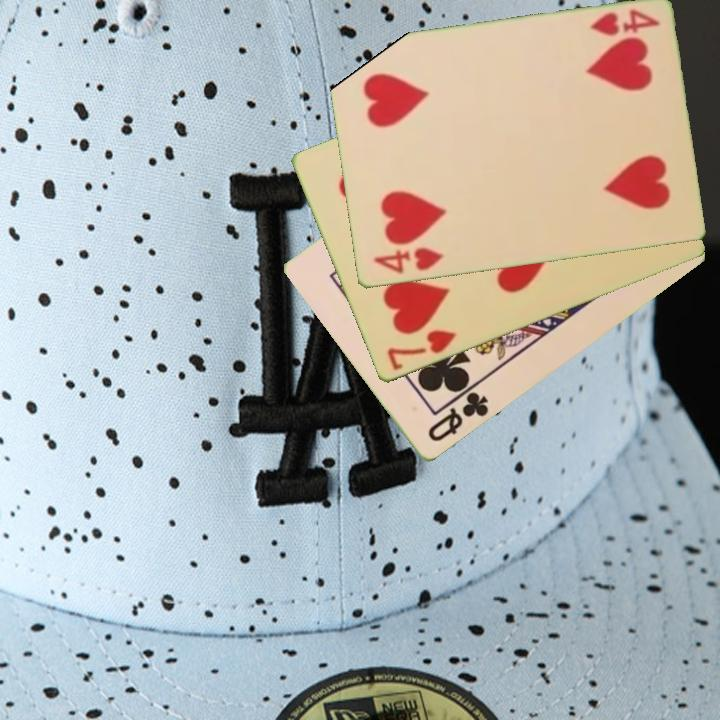4h: (369, 244, 447, 278), (586, 6, 663, 39)
7h: (383, 326, 459, 374)
Qc: (424, 381, 492, 446)
